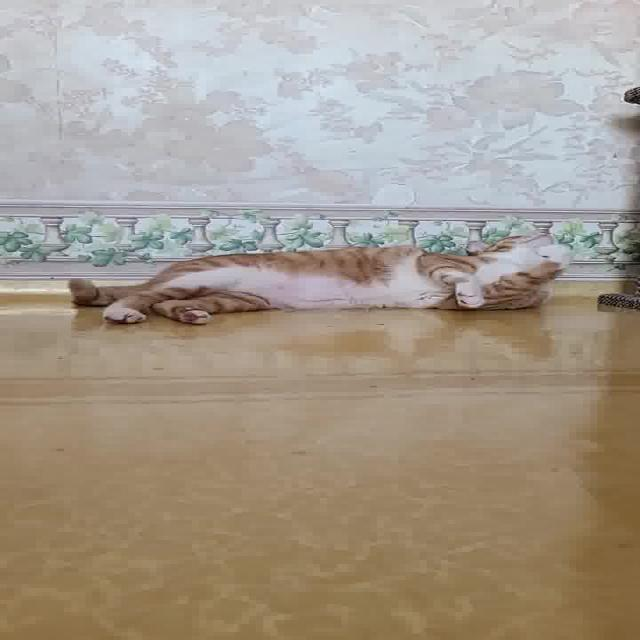cat: (47, 216, 581, 340)
